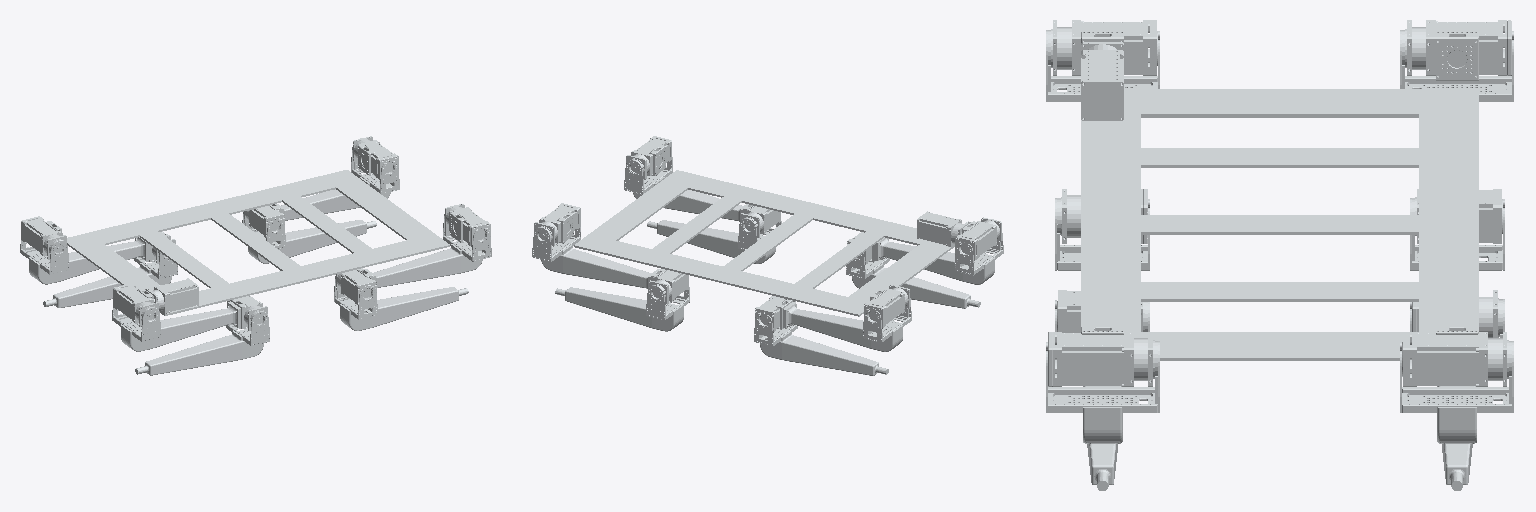
--- What the picture shows (computed from the rendered views, not written in the file) ---
The picture shows the robot from 3 angles, left to right: view 1: azimuth 30°, elevation 25°; view 2: azimuth 150°, elevation 25°; view 3: azimuth 270°, elevation 25°; orthographic projection.
Model Quadruped_Ver4SLDASM with 17 links and 16 joints (12 revolute, 4 fixed), rooted at TORSO, posed all joints at 0.
Links seen in each view (by area): view 1: TORSO, FR_ELBOW, BR_ELBOW, BR_KNEE, FR_KNEE, FL_ELBOW, BL_ELBOW, BL_KNEE, FL_KNEE, FL_SHOULDER, FR_SHOULDER, BR_BASE (+2 smaller); view 2: TORSO, FL_ELBOW, BL_ELBOW, BL_KNEE, FL_KNEE, FR_ELBOW, BR_ELBOW, BR_KNEE, FR_KNEE, BR_SHOULDER, BL_SHOULDER, FL_SHOULDER (+2 smaller); view 3: TORSO, BL_SHOULDER, FR_SHOULDER, FL_SHOULDER, FR_ELBOW, FL_ELBOW, BR_SHOULDER, BR_BASE, BL_ELBOW, BR_ELBOW, FL_KNEE, FR_KNEE (+2 smaller).
Boxes of the visible links, left/top/right/bottom form: TORSO: left=67, top=170, right=449, bottom=315; FR_ELBOW: left=336, top=205, right=491, bottom=304; BR_ELBOW: left=112, top=296, right=267, bottom=351; BR_KNEE: left=135, top=311, right=269, bottom=375; FR_KNEE: left=334, top=276, right=468, bottom=330; FL_ELBOW: left=244, top=138, right=399, bottom=238; BL_ELBOW: left=20, top=231, right=175, bottom=284; BL_KNEE: left=43, top=252, right=177, bottom=307; FL_KNEE: left=242, top=212, right=376, bottom=263; FL_SHOULDER: left=353, top=136, right=398, bottom=179; FR_SHOULDER: left=445, top=204, right=490, bottom=246; BR_BASE: left=145, top=278, right=198, bottom=313; TORSO: left=574, top=170, right=954, bottom=316; FL_ELBOW: left=532, top=227, right=688, bottom=305; BL_ELBOW: left=755, top=296, right=911, bottom=351; BL_KNEE: left=754, top=304, right=888, bottom=375; FL_KNEE: left=555, top=285, right=689, bottom=331; FR_ELBOW: left=624, top=157, right=780, bottom=237; BR_ELBOW: left=847, top=219, right=1003, bottom=284; BR_KNEE: left=846, top=238, right=980, bottom=308; FR_KNEE: left=647, top=218, right=781, bottom=263; BR_SHOULDER: left=955, top=217, right=1001, bottom=260; BL_SHOULDER: left=864, top=285, right=909, bottom=328; FL_SHOULDER: left=534, top=203, right=580, bottom=246; TORSO: left=1081, top=89, right=1478, bottom=360; BL_SHOULDER: left=1402, top=20, right=1511, bottom=80; FR_SHOULDER: left=1048, top=327, right=1157, bottom=386; FL_SHOULDER: left=1402, top=327, right=1511, bottom=386; FR_ELBOW: left=1046, top=290, right=1159, bottom=443; FL_ELBOW: left=1400, top=290, right=1513, bottom=443; BR_SHOULDER: left=1048, top=20, right=1157, bottom=75; BR_BASE: left=1081, top=42, right=1123, bottom=120; BL_ELBOW: left=1400, top=30, right=1513, bottom=243; BR_ELBOW: left=1046, top=30, right=1159, bottom=243; FL_KNEE: left=1410, top=299, right=1504, bottom=490; FR_KNEE: left=1055, top=300, right=1149, bottom=490.
Bounding box of the posed robot: 0.99 × 0.59 × 0.231 m (x, y, z).
14 mesh visuals loaded from 17 distinct referenced files (14 binary STL); not drawn: 3 (reference not matched to a file when rendering).

robot.urdf — Quadruped_Ver4SLDASM:
<?xml version="1.0" encoding="utf-8" ?>
<!-- This URDF was automatically created by SolidWorks to URDF Exporter! Originally created by Stephen Brawner ([email redacted]) 
     Commit Version: 1.5.1-0-g916b5db  Build Version: 1.5.7152.31018
     For more information, please see http://wiki.ros.org/sw_urdf_exporter -->
<robot name="Quadruped_Ver4SLDASM">
   
    <link name="TORSO">
        
<inertial>
            <origin xyz="0.4154 0.68295 0.75135" rpy="0 0 0" />
            <mass value="3.0375" />
            <inertia ixx="0.088389" ixy="-7.8794E-20" ixz="-1.5666E-18" iyy="0.2873" iyz="2.4642E-20" izz="0.19892" />
        </inertial>

        <visual>
            <origin xyz="0 0 0" rpy="0 0 0" />
            <geometry>
                <mesh filename="package://Quadruped_Ver4SLDASM/meshes/TORSO.STL" />
            </geometry>
            <material name="">
                <color rgba="0.89804 0.91765 0.92941 1" />
            </material>
        </visual>
        <collision>
            <origin xyz="0 0 0" rpy="0 0 0" />
            <geometry>
                <mesh filename="package://Quadruped_Ver4SLDASM/meshes/TORSO.STL" />
            </geometry>
        </collision>
    </link>
    <link name="FL_BASE">
        
<inertial>
            <origin xyz="-3.33066907387547E-16 -0.0295207534530161 5.06615278728084E-07" rpy="0 0 0" />
            <mass value="0.902828883965" />
            <inertia ixx="0.00132988323990108" ixy="-1.44056320495885E-17" ixz="5.80611455541909E-18" iyy="0.000399723625886206" iyz="-6.1064909911852E-09" izz="0.00132931468992926" />
        </inertial>

        <visual>
            <origin xyz="0 0 0" rpy="0 0 0" />
            <geometry>
                <mesh filename="package://Quadruped_Ver4SLDASM/meshes/FL_BASE.STL" />
            </geometry>
            <material name="">
                <color rgba="0.898039215686275 0.917647058823529 0.929411764705882 1" />
            </material>
        </visual>
        <collision>
            <origin xyz="0 0 0" rpy="0 0 0" />
            <geometry>
                <mesh filename="package://Quadruped_Ver4SLDASM/meshes/FL_BASE.STL" />
            </geometry>
        </collision>
    </link>
    <joint name="FL_BASE_TORSO" type="fixed">
        <origin xyz="0.8094 -0.52835 0.71245" rpy="1.5708 1.5708 0" />
        <parent link="TORSO" />
        <child link="FL_BASE" />
        <axis xyz="0 0 0" />
    </joint>
    <link name="FL_SHOULDER">
        
<inertial>
            <origin xyz="-1.49380507963315E-12 0.0581348959759068 -2.14668700032616E-05" rpy="0 0 0" />
            <mass value="0.981805915216205" />
            <inertia ixx="0.00135659161194753" ixy="3.83425004141481E-13" ixz="5.13991084088749E-15" iyy="0.00136958131837369" iyz="6.09271732007112E-09" izz="0.000446612811708962" />
        </inertial>

        <visual>
            <origin xyz="0 0 0" rpy="0 0 0" />
            <geometry>
                <mesh filename="package://Quadruped_Ver4SLDASM/meshes/FL_SHOULDER.STL" />
            </geometry>
            <material name="">
                <color rgba="0.898039215686275 0.917647058823529 0.929411764705882 1" />
            </material>
        </visual>
        <collision>
            <origin xyz="0 0 0" rpy="0 0 0" />
            <geometry>
                <mesh filename="package://Quadruped_Ver4SLDASM/meshes/FL_SHOULDER.STL" />
            </geometry>
        </collision>
    </link>
    <joint name="FL_SHOULDER_BASE" type="revolute">
        <origin xyz="0 0.01 0" rpy="3.1416 0 3.1416" />
        <parent link="FL_BASE" />
        <child link="FL_SHOULDER" />
        <axis xyz="0 1 0" />
        <limit lower="-3.0" upper="3.0" effort="90" velocity="100" />
        <dynamics damping="0.7" friction="0" />
    </joint>
    <link name="FL_ELBOW">
        
<inertial>
            <origin xyz="0.202821941713367 -0.0839656006445939 -0.0694852570156884" rpy="0 0 0" />
            <mass value="1.57493079597608" />
            <inertia ixx="0.00128761130875283" ixy="4.27510426111187E-05" ixz="7.52068011273911E-10" iyy="0.0058355144385604" iyz="-4.28728438401583E-07" izz="0.00518939685005104" />
        </inertial>

        <visual>
            <origin xyz="0 0 0" rpy="0 0 0" />
            <geometry>
                <mesh filename="package://Quadruped_Ver4SLDASM/meshes/FL_ELBOW.STL" />
            </geometry>
            <material name="">
                <color rgba="0.898039215686275 0.917647058823529 0.929411764705882 1" />
            </material>
        </visual>
        <collision>
            <origin xyz="0 0 0" rpy="0 0 0" />
            <geometry>
                <mesh filename="package://Quadruped_Ver4SLDASM/meshes/FL_ELBOW.STL" />
            </geometry>
        </collision>
    </link>
    <joint name="FL_ELBOW_SHOULDER" type="revolute">
        <origin xyz="0 0.059 0.069" rpy="0 0 -1.5708" />
        <parent link="FL_SHOULDER" />
        <child link="FL_ELBOW" />
        <axis xyz="0 0 1" />
        <limit lower="-3.0" upper="0.0" effort="90" velocity="100.0" />
        <dynamics damping="0.7" friction="0" />
    </joint>
    <link name="FL_KNEE">
        
<inertial>
            <origin xyz="-0.0805945928983661 -0.0796988032622525 -0.0560933136108762" rpy="0 0 0" />
            <mass value="0.718502100834517" />
            <inertia ixx="0.000306163447470287" ixy="-4.14795246895254E-05" ixz="-1.61163919497187E-09" iyy="0.00455169448929418" iyz="4.33506766692842E-08" izz="0.00448974695858997" />
        </inertial>

        <visual>
            <origin xyz="0 0 0" rpy="0 0 0" />
            <geometry>
                <mesh filename="package://Quadruped_Ver4SLDASM/meshes/FL_KNEE.STL" />
            </geometry>
            <material name="">
                <color rgba="0.898039215686275 0.917647058823529 0.929411764705882 1" />
            </material>
        </visual>
        <collision>
            <origin xyz="0 0 0" rpy="0 0 0" />
            <geometry>
                <mesh filename="package://Quadruped_Ver4SLDASM/meshes/FL_KNEE.STL" />FL
            </geometry>
            <surface>
                <friction>
                    <ode>
                        <mu>0.01</mu>
                        <mu2>0.01</mu2>
                    </ode>
                </friction>
            </surface> 
        </collision>
    </link>
    <joint name="FL_KNEE_ELBOW" type="revolute">
        <origin xyz="0.312 -0.088 -0.012" rpy="0 0 0" />
        <parent link="FL_ELBOW" />
        <child link="FL_KNEE" />
        <axis xyz="0 0 1" />
        <limit lower="0.0" upper="3.0" effort="90" velocity="100" />
        <dynamics damping="0.7" friction="0" />
    </joint>
    <link name="FR_BASE">
              
<inertial>
            <origin xyz="-2.22044604925031E-16 -0.0295207534530161 5.06615278617062E-07" rpy="0 0 0" />
            <mass value="0.902828883965" />
            <inertia ixx="0.00132988323990108" ixy="-1.44074304783624E-17" ixz="5.80298520537107E-18" iyy="0.000399723625886205" iyz="-6.10649099142943E-09" izz="0.00132931468992926" />
        </inertial>

        <visual>                    
            <origin xyz="0 0 0" rpy="0 0 0" />
            <geometry>
                <mesh filename="package://Quadruped_Ver4SLDASM/meshes/FR_BASE.STL" />
            </geometry>                    
            <material name="">
                <color rgba="0.898039215686275 0.917647058823529 0.929411764705882 1" />
            </material>
        </visual>
        <collision> 
            <origin xyz="0 0 0" rpy="0 0 0" />
            <geometry>
                <mesh filename="package://Quadruped_Ver4SLDASM/meshes/FR_BASE.STL" />
            </geometry>
        </collision>
    </link>
    <joint name="FR_BASE_TORSO" type="fixed">
        <origin xyz="0.8094 -0.97435 0.71245" rpy="1.5708 1.5708 0" />
        <parent link="TORSO" />
        <child link="FR_BASE" />
        <axis xyz="0 0 0" />
    </joint>
    <link name="FR_SHOULDER">
        
<inertial>
            <origin xyz="-1.49380507963315E-12 -0.0330214668700037 0.000865104024093233" rpy="0 0 0" />
            <mass value="0.981805915216205" />
            <inertia ixx="0.00135659161194753" ixy="5.13987602341806E-15" ixz="-3.83424885537339E-13" iyy="0.000446612811708962" iyz="-6.09271732009612E-09" izz="0.00136958131837369" />
        </inertial>

        <visual>
            <origin xyz="0 0 0" rpy="0 0 0" />
            <geometry>
                <mesh filename="package://Quadruped_Ver4SLDASM/meshes/FR_SHOULDER.STL" />
            </geometry>
            <material name="">
                <color rgba="0.898039215686275 0.917647058823529 0.929411764705882 1" />
            </material>
        </visual>
        <collision>
            <origin xyz="0 0 0" rpy="0 0 0" />
            <geometry>
                <mesh filename="package://Quadruped_Ver4SLDASM/meshes/FR_SHOULDER.STL" />
            </geometry>
        </collision>
    </link>
    <joint name="FR_SHOULDER_BASE" type="revolute">
        <origin xyz="0 0.069 -0.033" rpy="-1.5708 0 3.1416" />
        <parent link="FR_BASE" />
        <child link="FR_SHOULDER" />
        <axis xyz="0 0 1" />
        <limit lower="-3.0" upper="3.0" effort="90" velocity="100" />
        <dynamics damping="0.7" friction="0" />
    </joint>
    <link name="FR_ELBOW">
        
<inertial>
            <origin xyz="-0.202821941840251 -0.0839656006567835 -0.0685147429999977" rpy="0 0 0" />
            <mass value="1.57493079462878" />
            <inertia ixx="0.00128761130780894" ixy="-4.27510413870418E-05" ixz="7.53399938982439E-10" iyy="0.00583551443452101" iyz="4.28728908288762E-07" izz="0.00518939684608397" />
        </inertial>

        <visual>
            <origin xyz="0 0 0" rpy="0 0 0" />
            <geometry>
                <mesh filename="package://Quadruped_Ver4SLDASM/meshes/FR_ELBOW.STL" />
            </geometry>
            <material name="">
                <color rgba="0.898039215686275 0.917647058823529 0.929411764705882 1" />
            </material>
        </visual>
        <collision>
            <origin xyz="0 0 0" rpy="0 0 0" />
            <geometry>
                <mesh filename="package://Quadruped_Ver4SLDASM/meshes/FR_ELBOW.STL" />
            </geometry>
        </collision>
    </link>
    <joint name="FR_ELBOW_SHOULDER" type="revolute">
        <origin xyz="0 -0.102 0" rpy="1.5708 1.5708 0" />
        <parent link="FR_SHOULDER" />
        <child link="FR_ELBOW" />
        <axis xyz="0 0 1" />
        <limit lower="0" upper="1.57" effort="90" velocity="100" />
        <dynamics damping="0.7" friction="0" />
    </joint>
    <link name="FR_KNEE">
        
<inertial>
            <origin xyz="-0.080594593437154 -0.079698803508231 0.0609066859829872" rpy="0 0 0" />
            <mass value="0.718502084545039" />
            <inertia ixx="0.000306163435542528" ixy="-4.14795106946315E-05" ixz="-1.59700825518339E-09" iyy="0.00455169444656445" iyz="4.33566370585318E-08" izz="0.004489746916219" />
        </inertial>

        <visual>
            <origin xyz="0 0 0" rpy="0 0 0" />
            <geometry>
                <mesh filename="package://Quadruped_Ver4SLDASM/meshes/FR_KNEE.STL" />
            </geometry>
            <material name="">
                <color rgba="0.898039215686275 0.917647058823529 0.929411764705882 1" />
            </material>
        </visual>
        <collision>
            <origin xyz="0 0 0" rpy="0 0 0" />
            <geometry>
                <mesh filename="package://Quadruped_Ver4SLDASM/meshes/FR_KNEE.STL" />
            </geometry>
            <surface>
                <friction>
                    <ode>
                        <mu>0.01</mu>
                        <mu2>0.01</mu2>
                    </ode>
                </friction>
            </surface>            
        </collision>
    </link>
    <joint name="FR_KNEE_ELBOW" type="revolute">
        <origin xyz="-0.312 -0.088 -0.009" rpy="3.1416 0 3.1416" />
        <parent link="FR_ELBOW" />
        <child link="FR_KNEE" />
        <axis xyz="0 0 1" />
        <limit lower="0.0" upper="3.0" effort="90" velocity="100" />
        <dynamics damping="0.7" friction="0" />
    </joint>
    <link name="BL_BASE">
        
<inertial>
            <origin xyz="-4.44089209850063E-16 -0.029520753453016 5.06615278728084E-07" rpy="0 0 0" />
            <mass value="0.902828883965" />
            <inertia ixx="0.00132988323990108" ixy="-1.44071307294385E-17" ixz="5.81619344611965E-18" iyy="0.000399723625886206" iyz="-6.10649099118549E-09" izz="0.00132931468992926" />
        </inertial>

        <visual>
            <origin xyz="0 0 0" rpy="0 0 0" />
            <geometry>
                <mesh filename="package://Quadruped_Ver4SLDASM/meshes/BL_BASE.STL" />
            </geometry>
            <material name="">
                <color rgba="0.898039215686275 0.917647058823529 0.929411764705882 1" />
            </material>
        </visual>
        <collision>
            <origin xyz="0 0 0" rpy="0 0 0" />
            <geometry>
                <mesh filename="package://Quadruped_Ver4SLDASM/meshes/BL_BASE.STL" />
            </geometry>

        </collision>
    </link>
    <joint name="BL_BASE_TORSO" type="fixed">
        <origin xyz="0.021396 -0.52835 0.71245" rpy="1.5708 -1.5708 0" />
        <parent link="TORSO" />
        <child link="BL_BASE" />
        <axis xyz="0 0 0" />
    </joint>
    <link name="BL_SHOULDER">
        
<inertial>
            <origin xyz="-1.49347201272576E-12 0.0581348959759067 -2.14668700031506E-05" rpy="0 0 0" />
            <mass value="0.981805915216205" />
            <inertia ixx="0.00135659161194753" ixy="3.83424977967098E-13" ixz="5.13994119258615E-15" iyy="0.00136958131837369" iyz="6.09271732008847E-09" izz="0.000446612811708962" />
        </inertial>

        <visual>
            <origin xyz="0 0 0" rpy="0 0 0" />
            <geometry>
                <mesh filename="package://Quadruped_Ver4SLDASM/meshes/BL_SHOULDER.STL" />
            </geometry>
            <material name="">
                <color rgba="0.898039215686275 0.917647058823529 0.929411764705882 1" />
            </material>
        </visual>
        <collision>
            <origin xyz="0 0 0" rpy="0 0 0" />
            <geometry>
                <mesh filename="package://Quadruped_Ver4SLDASM/meshes/BL_SHOULDER.STL" />
            </geometry>
        </collision>
    </link>
    <joint name="BL_SHOULDER_BASE" type="revolute">
        <origin xyz="0 0.01 0" rpy="0 0 0" />
        <parent link="BL_BASE" />
        <child link="BL_SHOULDER" />
        <axis xyz="0 1 0" />
        <limit lower="-1.5" upper="1.5" effort="90" velocity="100" />
        <dynamics damping="0.7" friction="0" />
    </joint>
    <link name="BL_ELBOW">
        
<inertial>
            <origin xyz="0.202821941849011 -0.083965600657506 -0.0694852569989" rpy="0 0 0" />
            <mass value="1.57493079453405" />
            <inertia ixx="0.00128761130775031" ixy="4.27510413166955E-05" ixz="7.534884996097E-10" iyy="0.00583551443426363" iyz="-4.28728937076429E-07" izz="0.00518939684583941" />
        </inertial>

        <visual>
            <origin xyz="0 0 0" rpy="0 0 0" />
            <geometry>
                <mesh filename="package://Quadruped_Ver4SLDASM/meshes/BL_ELBOW.STL" />
            </geometry>
            <material name="">
                <color rgba="0.898039215686275 0.917647058823529 0.929411764705882 1" />
            </material>
        </visual>
        <collision>
            <origin xyz="0 0 0" rpy="0 0 0" />
            <geometry>
                <mesh filename="package://Quadruped_Ver4SLDASM/meshes/BL_ELBOW.STL" />
            </geometry>
        </collision>
    </link>
    <joint name="BL_ELBOW_SHOULDER" type="revolute">
        <origin xyz="0 0.059 0.069" rpy="0 0 -1.5708" />
        <parent link="BL_SHOULDER" />
        <child link="BL_ELBOW" />
        <axis xyz="0 0 1" />
        <limit lower="-3.0" upper="0.0" effort="90" velocity="100" />
        <dynamics damping="0.7" friction="0" />
    </joint>
    <link name="BL_KNEE">
        
<inertial>
            <origin xyz="-0.0805945933959598 -0.0796988034895124 0.0609066860165789" rpy="0 0 0" />
            <mass value="0.718502085892346" />
            <inertia ixx="0.00030616343648579" ixy="-4.14795117535847E-05" ixz="-1.5981698308491E-09" iyy="0.00455169444987353" iyz="4.3356167515013E-08" izz="0.00448974691945513" />
        </inertial>

        <visual>
            <origin xyz="0 0 0" rpy="0 0 0" />
            <geometry>
                <mesh filename="package://Quadruped_Ver4SLDASM/meshes/BL_KNEE.STL" />
            </geometry>
            <material name="">
                <color rgba="0.898039215686275 0.917647058823529 0.929411764705882 1" />
            </material>
        </visual>
        <collision>
            <origin xyz="0 0 0" rpy="0 0 0" />
            <geometry>
                <mesh filename="package://Quadruped_Ver4SLDASM/meshes/BL_KNEE.STL" />
            </geometry>
            <surface>
                <friction>
                    <ode>
                        <mu>0.01</mu>
                        <mu2>0.01</mu2>
                    </ode>
                </friction>
            </surface> 
        </collision>
    </link>
    <joint name="BL_KNEE_ELBOW" type="revolute">
        <origin xyz="0.312 -0.088 -0.129" rpy="0 0 0" />
        <parent link="BL_ELBOW" />
        <child link="BL_KNEE" />
        <axis xyz="0 0 1" />
        <limit lower="0.0" upper="3.0" effort="90" velocity="100" />
        <dynamics damping="0.7" friction="0" />
    </joint>
    <link name="BR_BASE">
        
<inertial>
            <origin xyz="-2.22044604925031E-16 -0.029520753453016 5.06615278728084E-07" rpy="0 0 0" />
            <mass value="0.902828883965" />
            <inertia ixx="0.00132988323990108" ixy="-1.44245181180893E-17" ixz="5.79230640599988E-18" iyy="0.000399723625886205" iyz="-6.1064909914441E-09" izz="0.00132931468992926" />
        </inertial>

        <visual>
            <origin xyz="0 0 0" rpy="0 0 0" />
            <geometry>
                <mesh filename="package://Quadruped_Ver4SLDASM/meshes/BR_BASE.STL" />
            </geometry>
            <material name="">
                <color rgba="0.898039215686275 0.917647058823529 0.929411764705882 1" />
            </material>
        </visual>
        <collision>
            <origin xyz="0 0 0" rpy="0 0 0" />
            <geometry>
                <mesh filename="package://Quadruped_Ver4SLDASM/meshes/BR_BASE.STL" />
            </geometry>
        </collision>
    </link>
    <joint name="BR_BASE_TORSO" type="fixed">
        <origin xyz="0.021396 -0.97435 0.71245" rpy="1.5708 -1.5708 0" />
        <parent link="TORSO" />
        <child link="BR_BASE" />
        <axis xyz="0 0 0" />
    </joint>
    <link name="BR_SHOULDER">
        
<inertial>
            <origin xyz="-1.49380507963315E-12 -0.0330214668700033 0.000865104024093309" rpy="0 0 0" />
            <mass value="0.981805915216204" />
            <inertia ixx="0.00135659161194753" ixy="5.13992501011094E-15" ixz="-3.83424987863033E-13" iyy="0.000446612811708961" iyz="-6.09271732013362E-09" izz="0.00136958131837369" />
        </inertial>

        <visual>
            <origin xyz="0 0 0" rpy="0 0 0" />
            <geometry>
                <mesh filename="package://Quadruped_Ver4SLDASM/meshes/BR_SHOULDER.STL" />
            </geometry>
            <material name="">
                <color rgba="0.898039215686275 0.917647058823529 0.929411764705882 1" />
            </material>
        </visual>
        <collision>
            <origin xyz="0 0 0" rpy="0 0 0" />
            <geometry>
                <mesh filename="package://Quadruped_Ver4SLDASM/meshes/BR_SHOULDER.STL" />
            </geometry>
        </collision>
    </link>
    <joint name="BR_SHOULDER_BASE" type="revolute">
        <origin xyz="0 0.069 0.033" rpy="1.5708 0 0" />
        <parent link="BR_BASE" />
        <child link="BR_SHOULDER" />
        <axis xyz="0 0 1" />
        <limit lower="-3.0" upper="3.0" effort="90" velocity="100" />
        <dynamics damping="0.7" friction="0" />
    </joint>
    <link name="BR_ELBOW">
        
<inertial>
            <origin xyz="-0.202821941713367 -0.0839656006445941 -0.0685147429843117" rpy="0 0 0" />
            <mass value="1.5749307959761" />
            <inertia ixx="0.00128761130875284" ixy="-4.27510426111134E-05" ixz="7.52068017353546E-10" iyy="0.00583551443856057" iyz="4.28728438401183E-07" izz="0.00518939685005121" />
        </inertial>

        <visual>
            <origin xyz="0 0 0" rpy="0 0 0" />
            <geometry>
                <mesh filename="package://Quadruped_Ver4SLDASM/meshes/BR_ELBOW.STL" />
            </geometry>
            <material name="">
                <color rgba="0.898039215686275 0.917647058823529 0.929411764705882 1" />
            </material>
        </visual>
        <collision>
            <origin xyz="0 0 0" rpy="0 0 0" />
            <geometry>
                <mesh filename="package://Quadruped_Ver4SLDASM/meshes/BR_ELBOW.STL" />
            </geometry>
        </collision>
    </link>
    <joint name="BR_ELBOW_SHOULDER" type="revolute">
        <origin xyz="0 -0.102 0" rpy="1.5708 1.5708 0" />
        <parent link="BR_SHOULDER" />
        <child link="BR_ELBOW" />
        <axis xyz="0 0 1" />
        <limit lower="0.0" upper="1.57" effort="90" velocity="100" />
        <dynamics damping="0.7" friction="0" />
    </joint>
    <link name="BR_KNEE">
        
<inertial>
            <origin xyz="-0.0805945928983662 -0.0796988032622525 0.0609066863891238" rpy="0 0 0" />
            <mass value="0.718502100834516" />
            <inertia ixx="0.000306163447470287" ixy="-4.14795246895285E-05" ixz="-1.61163918549265E-09" iyy="0.00455169448929417" iyz="4.33506766674435E-08" izz="0.00448974695858996" />
        </inertial>

        <visual>
            <origin xyz="0 0 0" rpy="0 0 0" />
            <geometry>
                <mesh filename="package://Quadruped_Ver4SLDASM/meshes/BR_KNEE.STL" />
            </geometry>
            <material name="">
                <color rgba="0.898039215686275 0.917647058823529 0.929411764705882 1" />
            </material>
        </visual>
        <collision>
            <origin xyz="0 0 0" rpy="0 0 0" />
            <geometry>
                <mesh filename="package://Quadruped_Ver4SLDASM/meshes/BR_KNEE.STL" />
            </geometry>
            <surface>
                <friction>
                    <ode>
                        <mu>0.01</mu>
                        <mu2>0.01</mu2>
                    </ode>
                </friction>
            </surface> 
        </collision>
    </link>
    <joint name="BR_KNEE_ELBOW" type="revolute">
        <origin xyz="-0.312 -0.088 -0.009" rpy="3.1416 0 3.1416" />
        <parent link="BR_ELBOW" />
        <child link="BR_KNEE" />
        <axis xyz="0 0 1" />
        <limit lower="0.0" upper="3.0" effort="90" velocity="100" />
        <dynamics damping="0.7" friction="0" />
    </joint>
    
<transmission name="tran1">
        <type>transmission_interface/SimpleTransmission</type>
        <joint name="BR_KNEE_ELBOW">
            <hardwareInterface>EffortJointInterface</hardwareInterface>
            <mechanicalReduction>1</mechanicalReduction>
        </joint>
        <actuator name="motor1">
            <hardwareInterface>EffortJointInterface</hardwareInterface>
            <mechanicalReduction>1</mechanicalReduction>
        </actuator>
    </transmission>
    <transmission name="tran2">
        <type>transmission_interface/SimpleTransmission</type>
        <joint name="BL_KNEE_ELBOW">
            <hardwareInterface>EffortJointInterface</hardwareInterface>
            <mechanicalReduction>1</mechanicalReduction>
        </joint>
        <actuator name="motor2">
            <hardwareInterface>EffortJointInterface</hardwareInterface>
            <mechanicalReduction>1</mechanicalReduction>
        </actuator>
    </transmission>
    <transmission name="tran3">
        <type>transmission_interface/SimpleTransmission</type>
        <joint name="FR_KNEE_ELBOW">
            <hardwareInterface>EffortJointInterface</hardwareInterface>
            <mechanicalReduction>1</mechanicalReduction>
        </joint>
        <actuator name="motor3">
            <hardwareInterface>EffortJointInterface</hardwareInterface>
            <mechanicalReduction>1</mechanicalReduction>
        </actuator>
    </transmission>
    <transmission name="tran4">
        <type>transmission_interface/SimpleTransmission</type>
        <joint name="FL_KNEE_ELBOW">
            <hardwareInterface>EffortJointInterface</hardwareInterface>
            <mechanicalReduction>1</mechanicalReduction>
        </joint>
        <actuator name="motor">
            <hardwareInterface>EffortJointInterface</hardwareInterface>
            <mechanicalReduction>1</mechanicalReduction>
        </actuator>
    </transmission>
    <transmission name="tran5">
        <type>transmission_interface/SimpleTransmission</type>
        <joint name="FL_ELBOW_SHOULDER">
            <hardwareInterface>EffortJointInterface</hardwareInterface>
            <mechanicalReduction>1</mechanicalReduction>
        </joint>
        <actuator name="motor">
            <hardwareInterface>EffortJointInterface</hardwareInterface>
            <mechanicalReduction>1</mechanicalReduction>
        </actuator>
    </transmission>
    <transmission name="tran6">
        <type>transmission_interface/SimpleTransmission</type>
        <joint name="FR_ELBOW_SHOULDER">
            <hardwareInterface>EffortJointInterface</hardwareInterface>
            <mechanicalReduction>1</mechanicalReduction>
        </joint>
        <actuator name="motor">
            <hardwareInterface>EffortJointInterface</hardwareInterface>
            <mechanicalReduction>1</mechanicalReduction>
        </actuator>
    </transmission>
    <transmission name="tran7">
        <type>transmission_interface/SimpleTransmission</type>
        <joint name="BR_ELBOW_SHOULDER">
            <hardwareInterface>EffortJointInterface</hardwareInterface>
            <mechanicalReduction>1</mechanicalReduction>
        </joint>
        <actuator name="motor">
            <hardwareInterface>EffortJointInterface</hardwareInterface>
            <mechanicalReduction>1</mechanicalReduction>
        </actuator>
    </transmission>
    <transmission name="tran8">
        <type>transmission_interface/SimpleTransmission</type>
        <joint name="BL_ELBOW_SHOULDER">
            <hardwareInterface>EffortJointInterface</hardwareInterface>
            <mechanicalReduction>1</mechanicalReduction>
        </joint>
        <actuator name="motor">
            <hardwareInterface>EffortJointInterface</hardwareInterface>
            <mechanicalReduction>1</mechanicalReduction>
        </actuator>
    </transmission>
    <transmission name="tran9">
        <type>transmission_interface/SimpleTransmission</type>
        <joint name="BL_SHOULDER_BASE">
            <hardwareInterface>EffortJointInterface</hardwareInterface>
            <mechanicalReduction>1</mechanicalReduction>
        </joint>
        <actuator name="motor">
            <hardwareInterface>EffortJointInterface</hardwareInterface>
            <mechanicalReduction>1</mechanicalReduction>
        </actuator>
    </transmission>
    <transmission name="tran10">
        <type>transmission_interface/SimpleTransmission</type>
        <joint name="BR_SHOULDER_BASE">
            <hardwareInterface>EffortJointInterface</hardwareInterface>
            <mechanicalReduction>1</mechanicalReduction>
        </joint>
        <actuator name="motor">
            <hardwareInterface>EffortJointInterface</hardwareInterface>
            <mechanicalReduction>1</mechanicalReduction>
        </actuator>
    </transmission>
    <transmission name="tran11">
        <type>transmission_interface/SimpleTransmission</type>
        <joint name="FL_SHOULDER_BASE">
            <hardwareInterface>EffortJointInterface</hardwareInterface>
            <mechanicalReduction>1</mechanicalReduction>
        </joint>
        <actuator name="motor">
            <hardwareInterface>EffortJointInterface</hardwareInterface>
            <mechanicalReduction>1</mechanicalReduction>
        </actuator>
    </transmission>
    <transmission name="tran12">
        <type>transmission_interface/SimpleTransmission</type>
        <joint name="FR_SHOULDER_BASE">
            <hardwareInterface>EffortJointInterface</hardwareInterface>
            <mechanicalReduction>1</mechanicalReduction>
        </joint>
        <actuator name="motor">
            <hardwareInterface>EffortJointInterface</hardwareInterface>
            <mechanicalReduction>1</mechanicalReduction>
        </actuator>
    </transmission>
    <transmission name="trans_FL_SHOULDER_BASE">
        <type>transmission_interface/SimpleTransmission</type>
        <joint name="FL_SHOULDER_BASE">
            <hardwareInterface>hardware_interface/EffortJointInterface</hardwareInterface>
        </joint>
        <actuator name="FL_SHOULDER_BASE_motor">
            <hardwareInterface>hardware_interface/EffortJointInterface</hardwareInterface>
            <mechanicalReduction>1</mechanicalReduction>
        </actuator>
    </transmission>
    <transmission name="trans_FL_ELBOW_SHOULDER">
        <type>transmission_interface/SimpleTransmission</type>
        <joint name="FL_ELBOW_SHOULDER">
            <hardwareInterface>hardware_interface/EffortJointInterface</hardwareInterface>
        </joint>
        <actuator name="FL_ELBOW_SHOULDER_motor">
            <hardwareInterface>hardware_interface/EffortJointInterface</hardwareInterface>
            <mechanicalReduction>1</mechanicalReduction>
        </actuator>
    </transmission>
    <transmission name="trans_FL_KNEE_ELBOW">
        <type>transmission_interface/SimpleTransmission</type>
        <joint name="FL_KNEE_ELBOW">
            <hardwareInterface>hardware_interface/EffortJointInterface</hardwareInterface>
        </joint>
        <actuator name="FL_KNEE_ELBOW_motor">
            <hardwareInterface>hardware_interface/EffortJointInterface</hardwareInterface>
            <mechanicalReduction>1</mechanicalReduction>
        </actuator>
    </transmission>
    <transmission name="trans_FR_SHOULDER_BASE">
        <type>transmission_interface/SimpleTransmission</type>
        <joint name="FR_SHOULDER_BASE">
            <hardwareInterface>hardware_interface/EffortJointInterface</hardwareInterface>
        </joint>
        <actuator name="FR_SHOULDER_BASE_motor">
            <hardwareInterface>hardware_interface/EffortJointInterface</hardwareInterface>
            <mechanicalReduction>1</mechanicalReduction>
        </actuator>
    </transmission>
    <transmission name="trans_FR_ELBOW_SHOULDER">
        <type>transmission_interface/SimpleTransmission</type>
        <joint name="FR_ELBOW_SHOULDER">
            <hardwareInterface>hardware_interface/EffortJointInterface</hardwareInterface>
        </joint>
        <actuator name="FR_ELBOW_SHOULDER_motor">
            <hardwareInterface>hardware_interface/EffortJointInterface</hardwareInterface>
            <mechanicalReduction>1</mechanicalReduction>
        </actuator>
    </transmission>
    <transmission name="trans_FR_KNEE_ELBOW">
        <type>transmission_interface/SimpleTransmission</type>
        <joint name="FR_KNEE_ELBOW">
            <hardwareInterface>hardware_interface/EffortJointInterface</hardwareInterface>
        </joint>
        <actuator name="FR_KNEE_ELBOW_motor">
            <hardwareInterface>hardware_interface/EffortJointInterface</hardwareInterface>
            <mechanicalReduction>1</mechanicalReduction>
        </actuator>
    </transmission>
    <transmission name="trans_BL_SHOULDER_BASE">
        <type>transmission_interface/SimpleTransmission</type>
        <joint name="BL_SHOULDER_BASE">
            <hardwareInterface>hardware_interface/EffortJointInterface</hardwareInterface>
        </joint>
        <actuator name="BL_SHOULDER_BASE_motor">
            <hardwareInterface>hardware_interface/EffortJointInterface</hardwareInterface>
            <mechanicalReduction>1</mechanicalReduction>
        </actuator>
    </transmission>
    <transmission name="trans_BL_ELBOW_SHOULDER">
        <type>transmission_interface/SimpleTransmission</type>
        <joint name="BL_ELBOW_SHOULDER">
            <hardwareInterface>hardware_interface/EffortJointInterface</hardwareInterface>
        </joint>
        <actuator name="BL_ELBOW_SHOULDER_motor">
            <hardwareInterface>hardware_interface/EffortJointInterface</hardwareInterface>
            <mechanicalReduction>1</mechanicalReduction>
        </actuator>
    </transmission>
    <transmission name="trans_BL_KNEE_ELBOW">
        <type>transmission_interface/SimpleTransmission</type>
        <joint name="BL_KNEE_ELBOW">
            <hardwareInterface>hardware_interface/EffortJointInterface</hardwareInterface>
        </joint>
        <actuator name="BL_KNEE_ELBOW_motor">
            <hardwareInterface>hardware_interface/EffortJointInterface</hardwareInterface>
            <mechanicalReduction>1</mechanicalReduction>
        </actuator>
    </transmission>
    <transmission name="trans_BR_SHOULDER_BASE">
        <type>transmission_interface/SimpleTransmission</type>
        <joint name="BR_SHOULDER_BASE">
            <hardwareInterface>hardware_interface/EffortJointInterface</hardwareInterface>
        </joint>
        <actuator name="BR_SHOULDER_BASE_motor">
            <hardwareInterface>hardware_interface/EffortJointInterface</hardwareInterface>
            <mechanicalReduction>1</mechanicalReduction>
        </actuator>
    </transmission>
    <transmission name="trans_BR_ELBOW_SHOULDER">
        <type>transmission_interface/SimpleTransmission</type>
        <joint name="BR_ELBOW_SHOULDER">
            <hardwareInterface>hardware_interface/EffortJointInterface</hardwareInterface>
        </joint>
        <actuator name="BR_ELBOW_SHOULDER_motor">
            <hardwareInterface>hardware_interface/EffortJointInterface</hardwareInterface>
            <mechanicalReduction>1</mechanicalReduction>
        </actuator>
    </transmission>
    <transmission name="trans_BR_KNEE_ELBOW">
        <type>transmission_interface/SimpleTransmission</type>
        <joint name="BR_KNEE_ELBOW">
            <hardwareInterface>hardware_interface/EffortJointInterface</hardwareInterface>
        </joint>
        <actuator name="BR_KNEE_ELBOW_motor">
            <hardwareInterface>hardware_interface/EffortJointInterface</hardwareInterface>
            <mechanicalReduction>1</mechanicalReduction>
        </actuator>
    </transmission>
    <gazebo>
        <plugin name="gazebo_ros_control" filename="libgazebo_ros_control.so">
            <robotNamespace>/Quadruped_Ver4SLDASM</robotNamespace>
        </plugin>
    </gazebo>
    <gazebo reference = "TORSO">
        <turnGravityOff> true </turnGravityOff>
    </gazebo>
    <!-- <gazebo reference = "FL_KNEE">
        <turnGravityOff> true </turnGravityOff>
    </gazebo> 
    <gazebo reference = "BR_KNEE">
        <turnGravityOff> true </turnGravityOff>
    </gazebo> 
    <gazebo reference = "FR_KNEE">
        <turnGravityOff> true </turnGravityOff>
    </gazebo> 
    <gazebo reference = "BL_KNEE">
        <turnGravityOff> true </turnGravityOff>
    </gazebo>  --> 
       
</robot>
